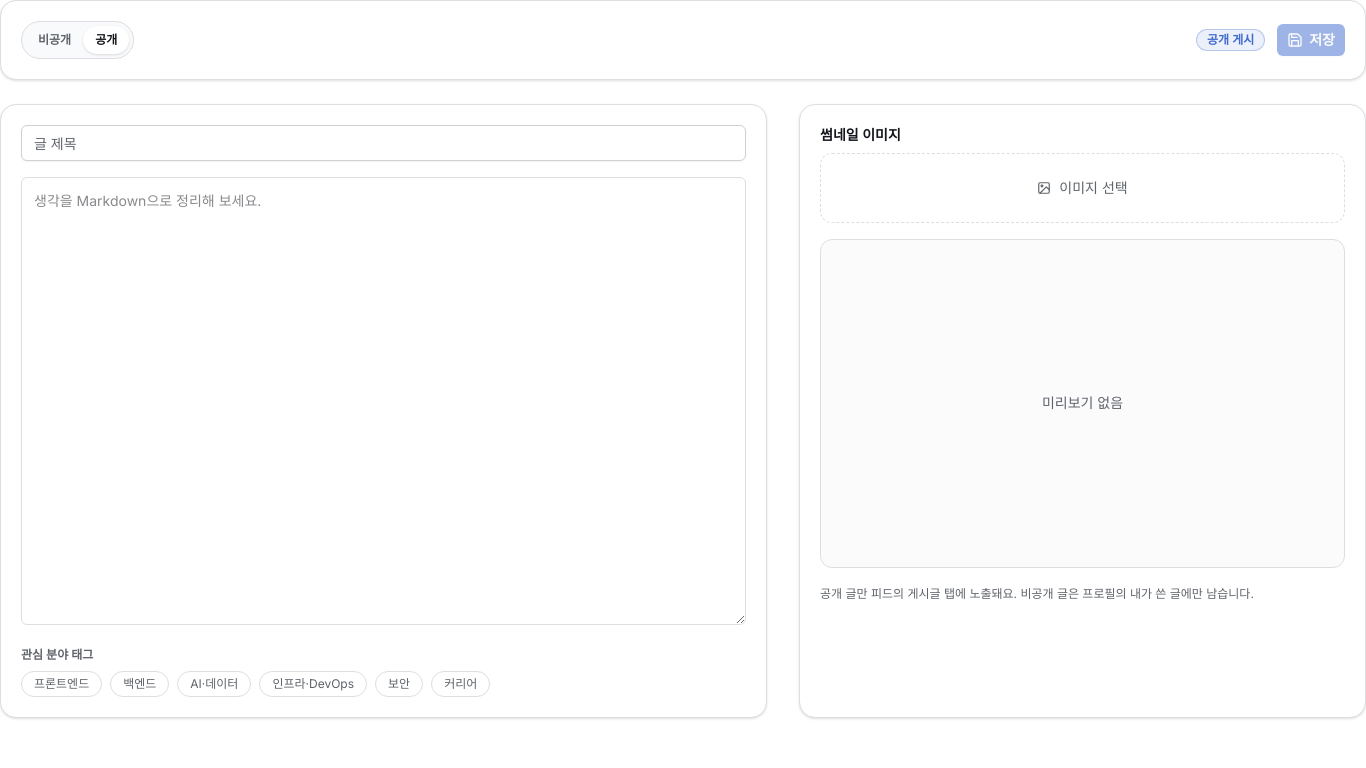
Test: WriteEditor 신규 작성 › 공개 여부를 바꾸면 배지와 저장 가능 상태가 함께 바뀐다
This screenshot has width=1366, height=768.
Click the tab "비공개" at (55, 40), box [26,26,83,54]
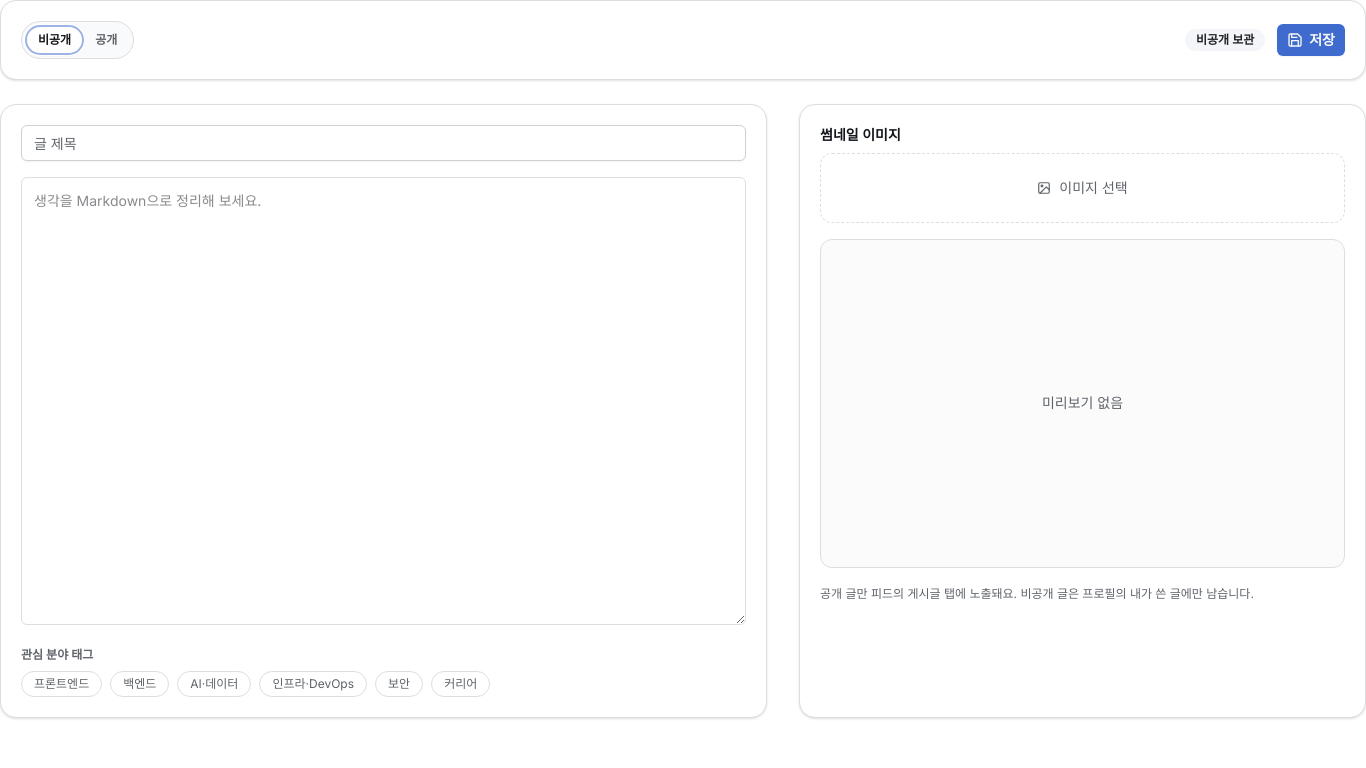
expect the text "비공개 보관" is shown: met, box [1185,29,1265,51]
expect the button "저장" is enabled: met, box [1277,24,1345,56]
